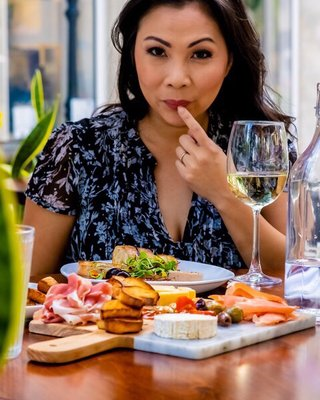pizza: (0, 224, 35, 369), (283, 257, 320, 311)
soup: (98, 299, 143, 334), (111, 276, 160, 308)
